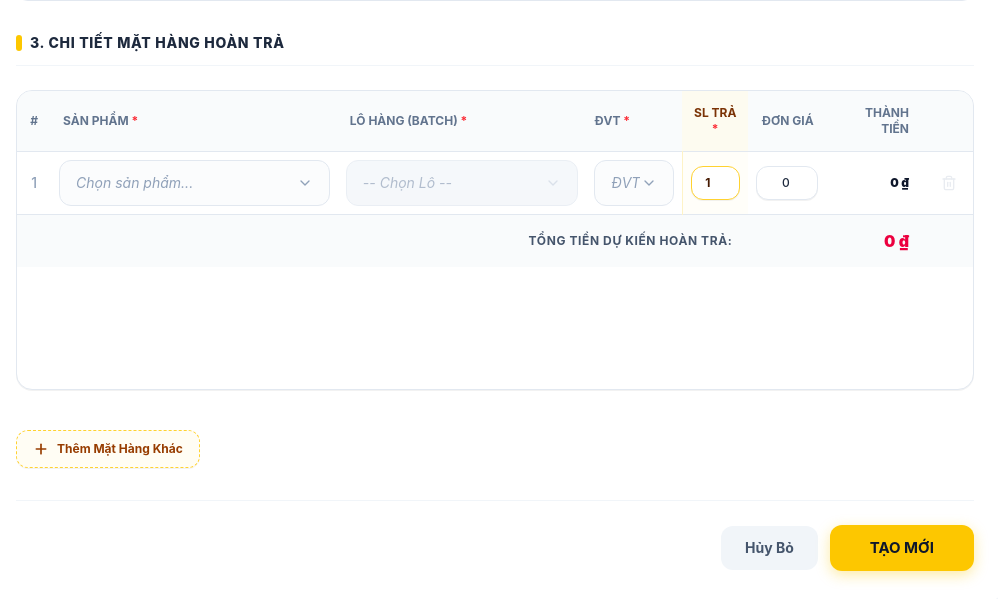
Test case: Module 13 - CustomerReturnForm Component › TC02 - Bấm nút "Thêm Mặt Hàng Khác" tạo thêm một dòng trống trong bảng chi tiết
The image size is (998, 599).
(page scrolled)
Click the button "Thêm Mặt Hàng Khác": (108,448) [16,430,200,468]
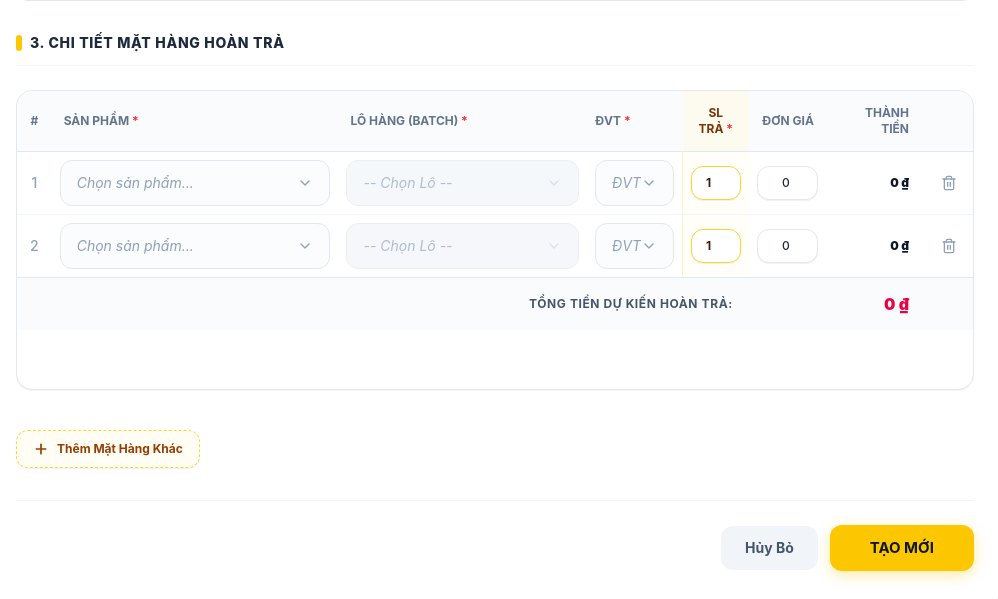
Now the number of buttons titled "Xóa dòng" is 2, box [933,166,965,198]; [933,230,965,262]
